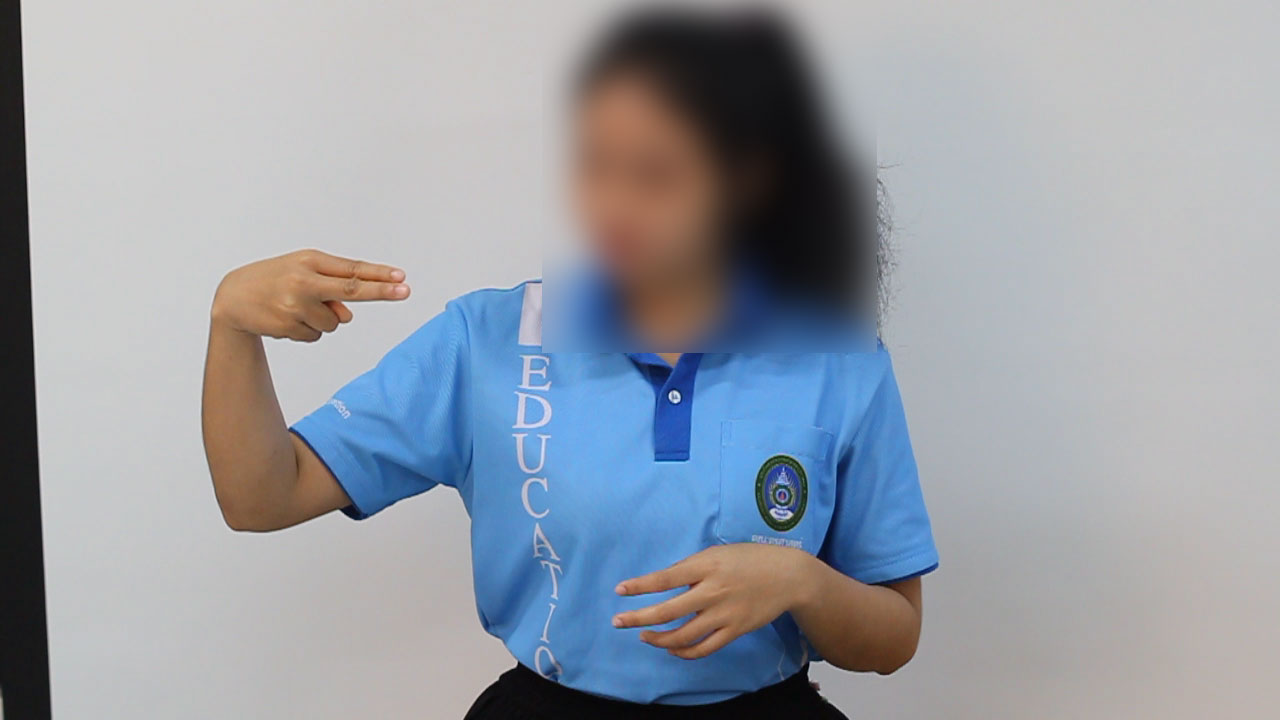hor: (199, 237, 429, 353)
